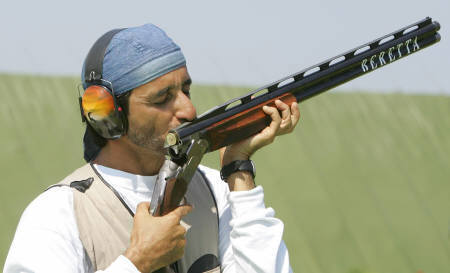face: (124, 61, 197, 159), (122, 59, 195, 157)
